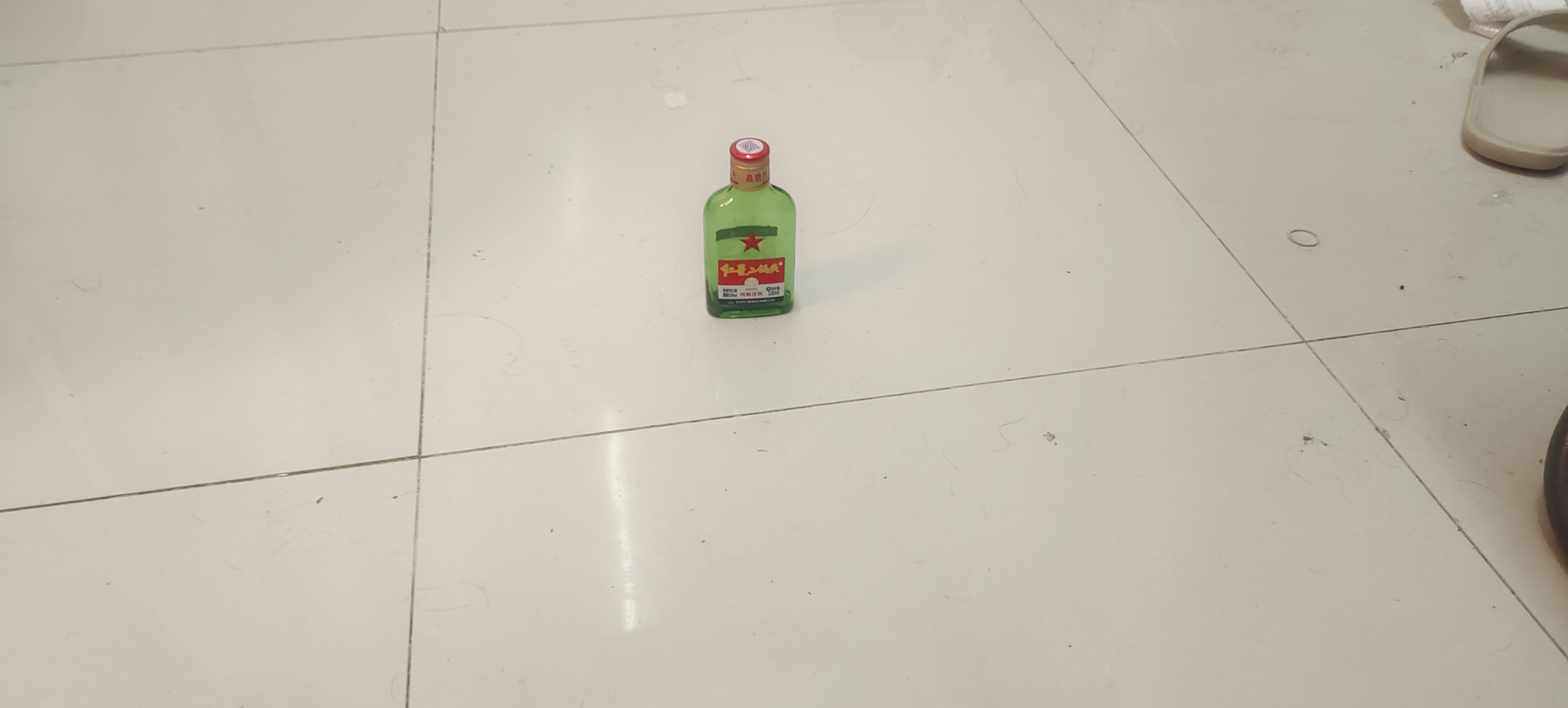redbull: (583, 153, 906, 329)
